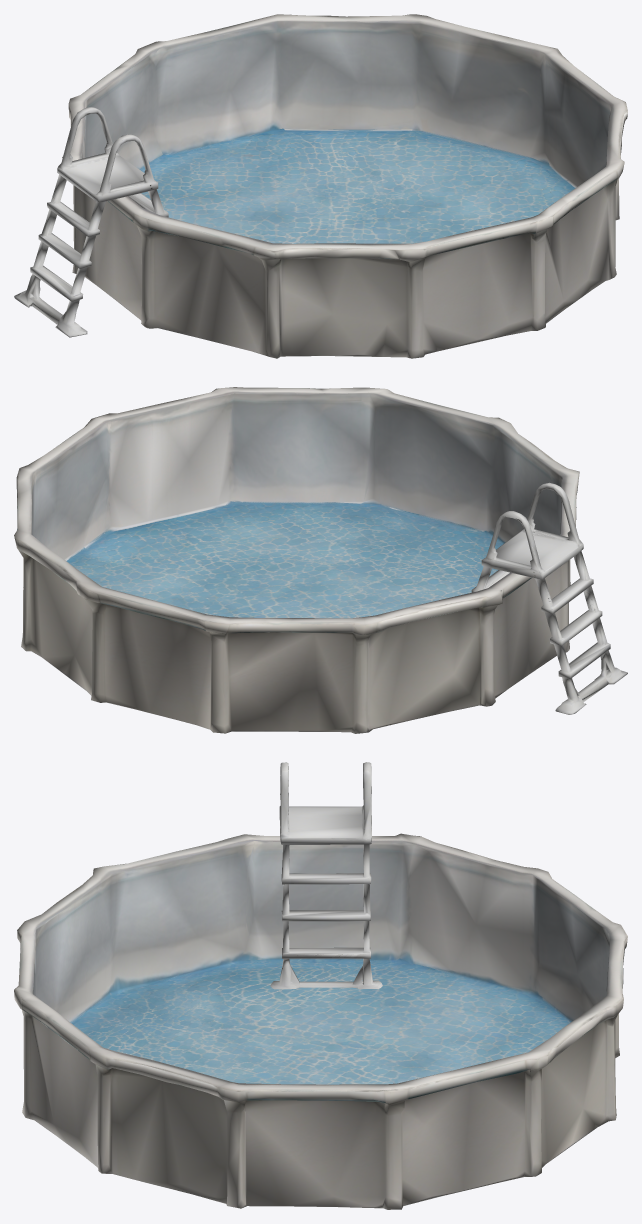
Rendered from pool.fbx.
The picture shows the model from 3 angles, top to bottom: view 1: azimuth 30°, elevation 25°; view 2: azimuth 150°, elevation 25°; view 3: azimuth 270°, elevation 25°; orthographic projection. The views are drawn at different scales.
Visible parts, largest first — view 1: pool; view 2: pool; view 3: pool.
Part boxes in pixels (box(x1,y1,x2,y2)): pool: box(14, 14, 627, 358); pool: box(14, 387, 627, 733); pool: box(14, 762, 627, 1209).
Bounding box in the file's own units: 4.7 × 1.47 × 4.18.
Materials: 2 (2 with a texture image).
